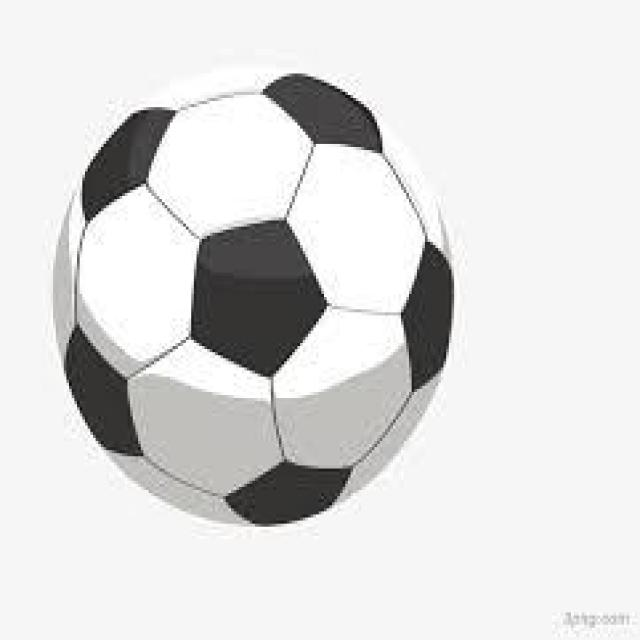Soccer Ball: (48, 67, 454, 533)
